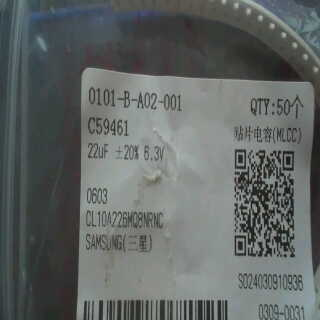22uF: (86, 139, 111, 163)
